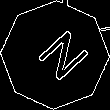N_SW: (23, 23, 87, 87)
